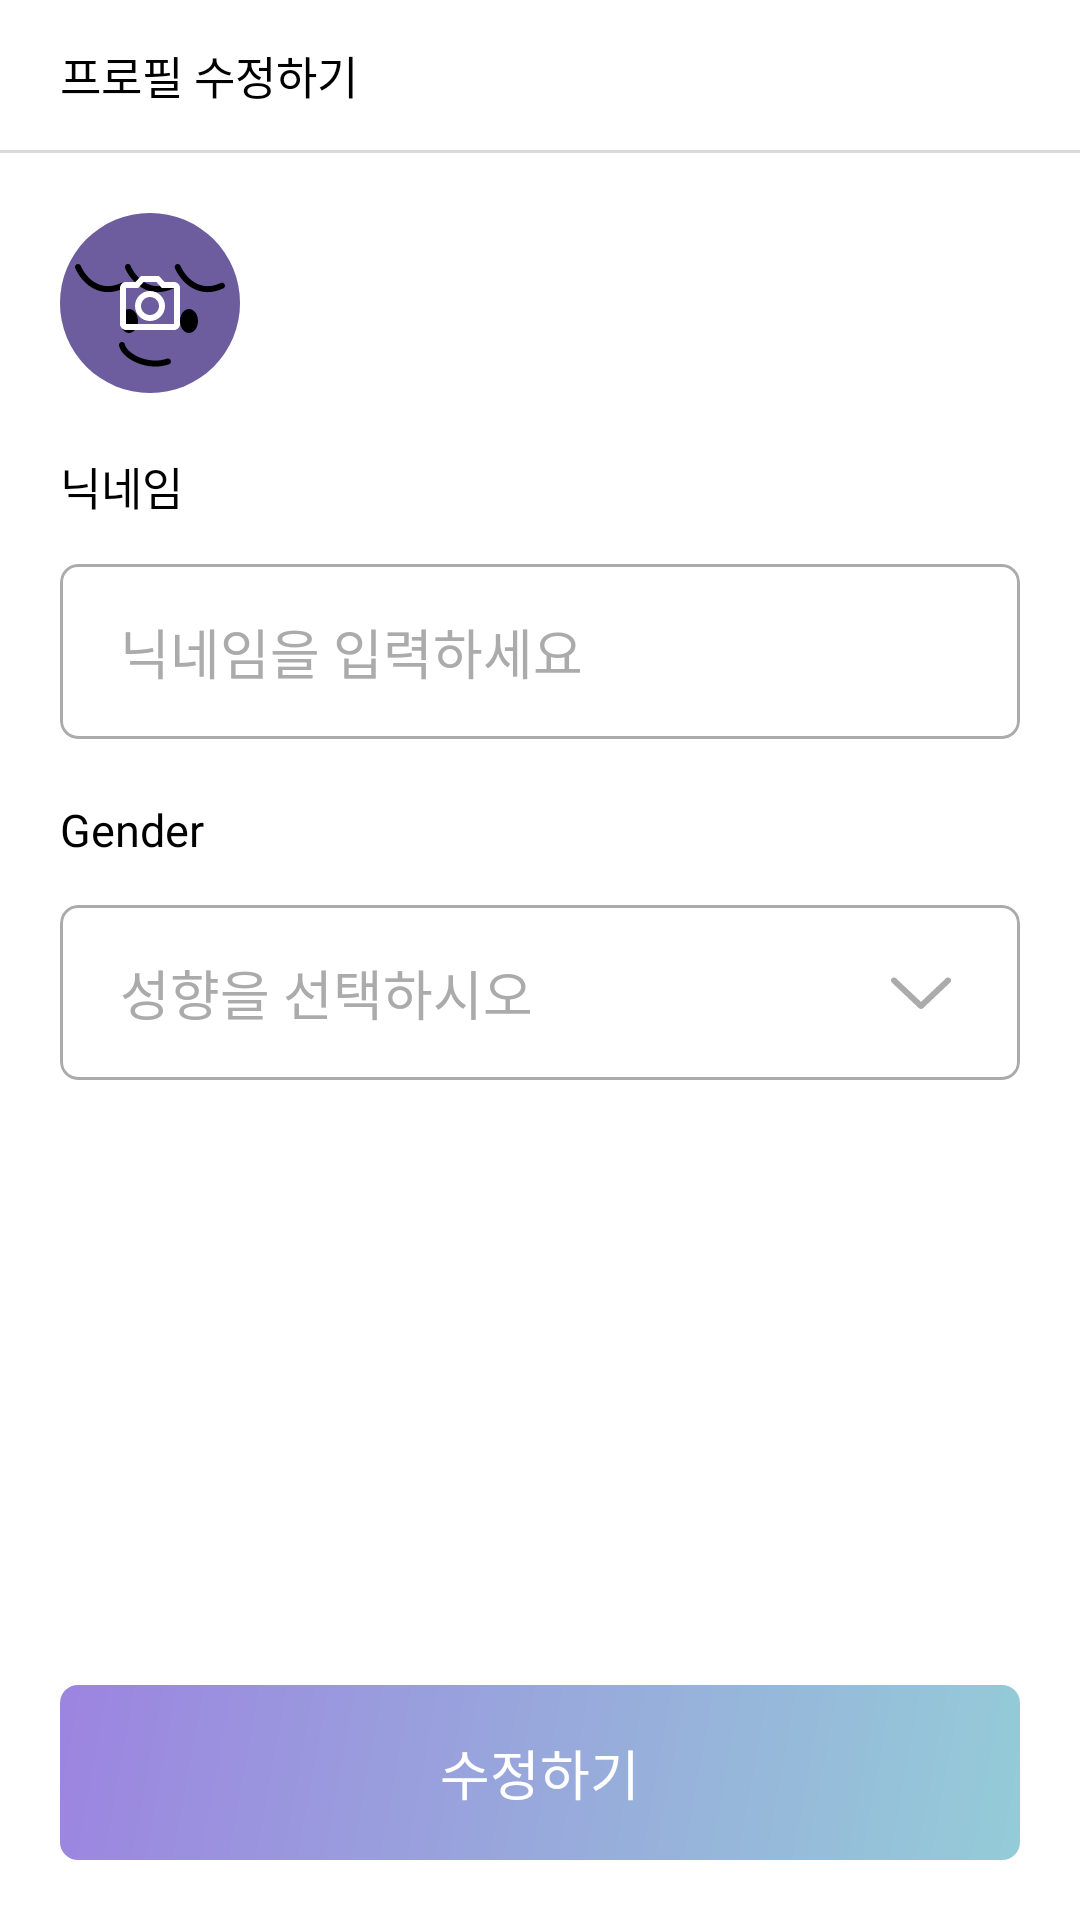

Icon bounding boxes for this 1080x1920 phone screenshot, format (x1, y1, x2, y2):
change: (60, 213, 240, 393)
drop down: (891, 977, 951, 1009)
